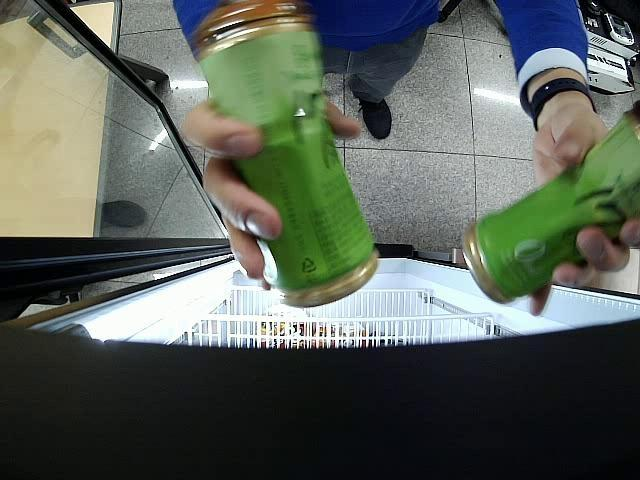19_17cha: (191, 2, 378, 308), (464, 102, 638, 305)
